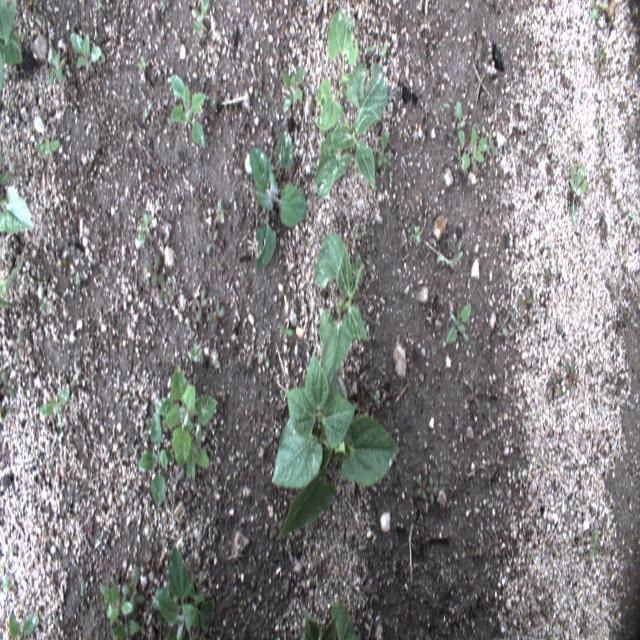crop: (273, 352, 400, 538), (314, 61, 388, 196), (249, 130, 308, 269), (313, 233, 367, 379), (156, 368, 218, 481), (152, 546, 216, 639), (314, 7, 358, 132), (139, 410, 174, 507), (301, 597, 362, 639), (0, 0, 23, 98), (0, 184, 34, 236)
weed: (169, 74, 206, 148), (70, 33, 106, 74), (100, 580, 132, 626), (568, 162, 588, 228), (40, 387, 70, 430), (462, 125, 490, 171), (280, 66, 306, 111), (0, 259, 23, 308), (122, 566, 146, 611), (446, 304, 471, 343), (10, 611, 38, 639), (372, 129, 393, 166), (144, 254, 167, 286), (437, 240, 463, 266), (191, 0, 209, 37), (207, 300, 225, 332), (192, 288, 208, 322), (112, 619, 140, 638), (455, 99, 465, 152), (48, 49, 63, 82), (425, 474, 439, 506), (34, 139, 61, 155), (138, 212, 151, 244), (363, 381, 381, 404), (156, 283, 174, 305), (2, 370, 15, 400), (184, 558, 199, 584), (590, 0, 608, 21), (467, 381, 481, 408), (565, 360, 576, 391), (517, 287, 534, 307), (12, 331, 22, 365), (547, 378, 562, 400), (594, 46, 606, 72), (207, 229, 219, 255), (416, 476, 428, 500), (189, 340, 202, 362), (589, 530, 596, 562), (549, 53, 564, 66), (488, 134, 497, 155), (278, 325, 295, 335), (598, 118, 604, 146), (2, 577, 12, 593), (0, 172, 13, 184), (412, 227, 421, 244), (379, 41, 388, 58), (218, 199, 224, 224), (137, 56, 147, 71), (144, 103, 152, 120), (39, 295, 47, 311), (392, 558, 398, 577), (0, 406, 7, 422), (264, 352, 270, 370), (536, 452, 542, 469), (0, 148, 5, 168), (366, 47, 374, 52), (630, 213, 634, 222)
